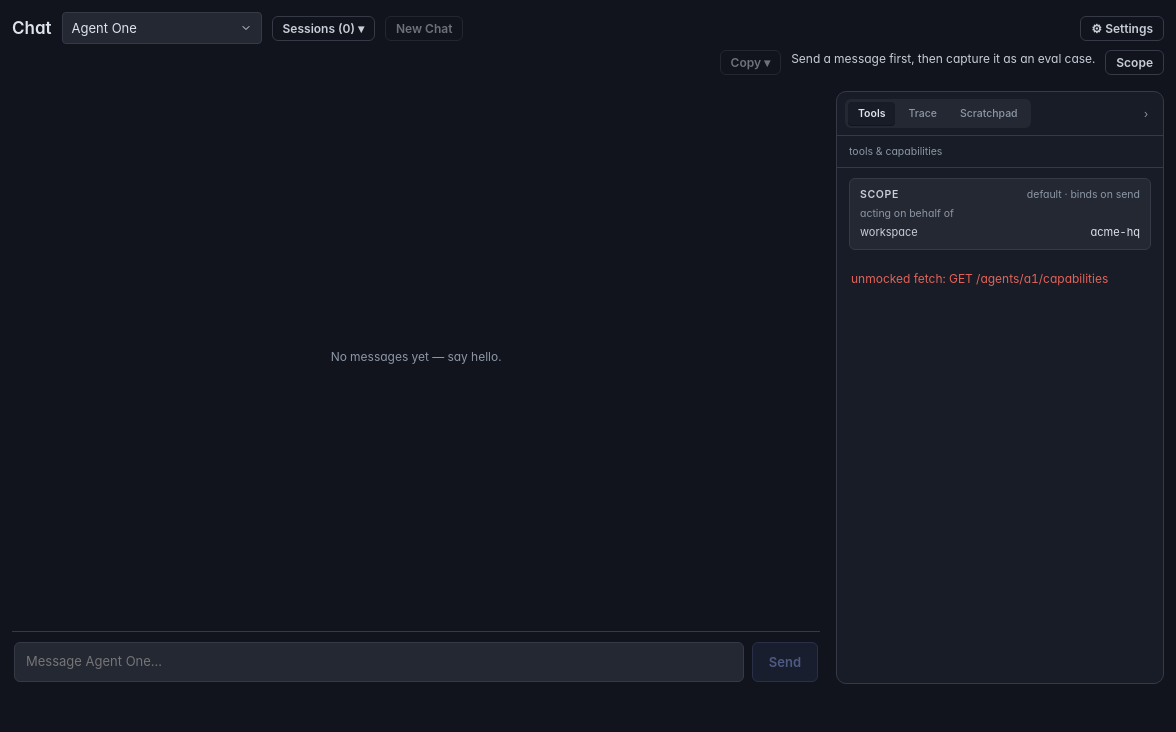
Test: ChatPage typed scope form (#308) › renders typed rows folded from instantiation.schema instead of the JSON textarea, seeded from defaults
Click the button "Scope" at (1135, 62), box x1=1105 y1=50 x2=1164 y2=75
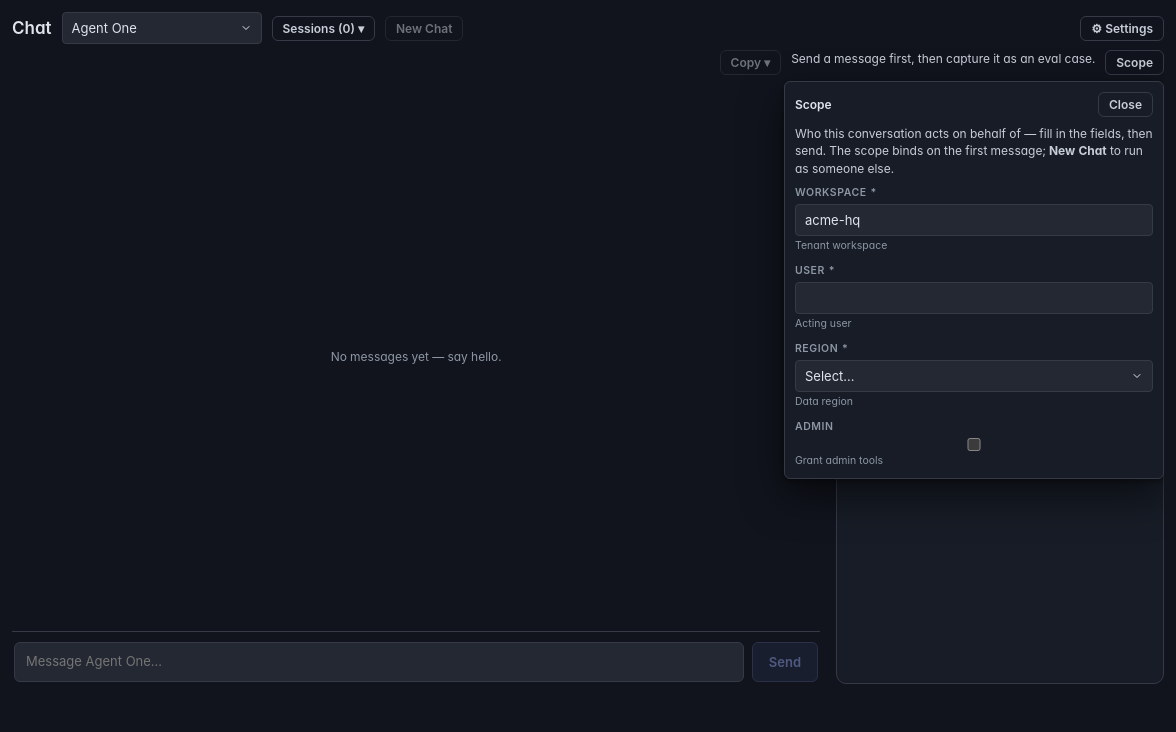
Check: the field labelled "workspace" holds "acme-hq", box x1=795 y1=204 x2=1153 y2=236
Check: the button with aria-label "region" reads "Select…", box x1=795 y1=360 x2=1153 y2=392
Check: the checkbox labelled "admin" is not checked, box x1=795 y1=438 x2=1153 y2=451
